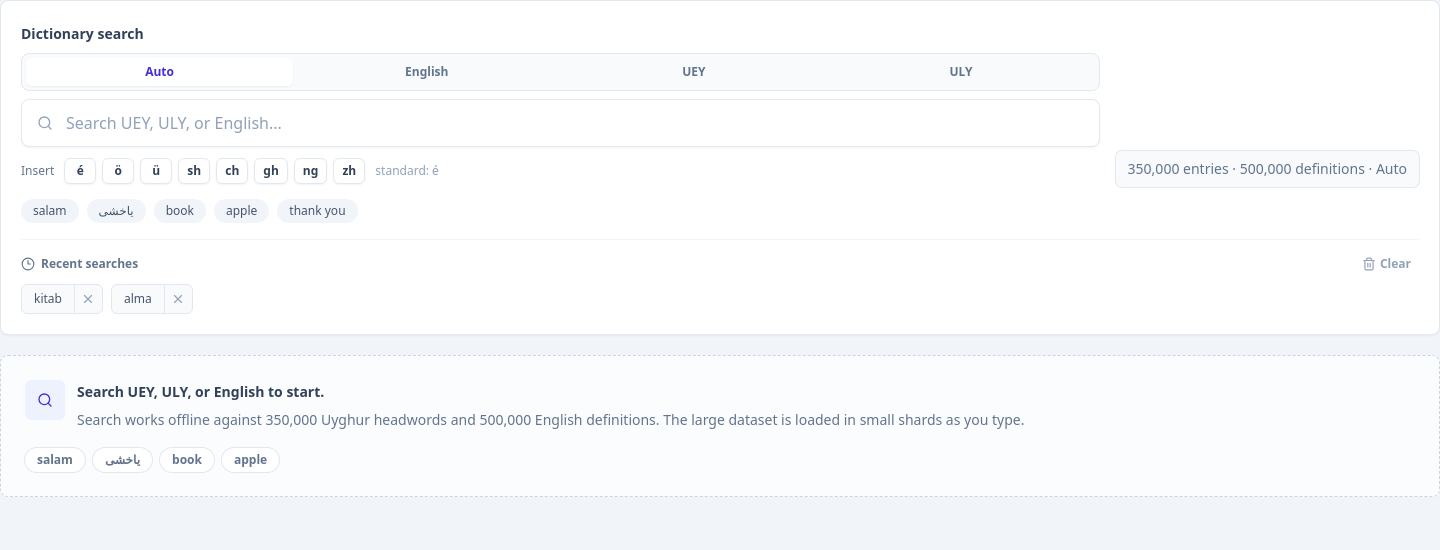
it: DictionaryPanel › removes one recent search without changing the current query
The image size is (1440, 550).
Click the button named "Remove kitab from recent searches" at (88, 299), box [74,285,102,313]
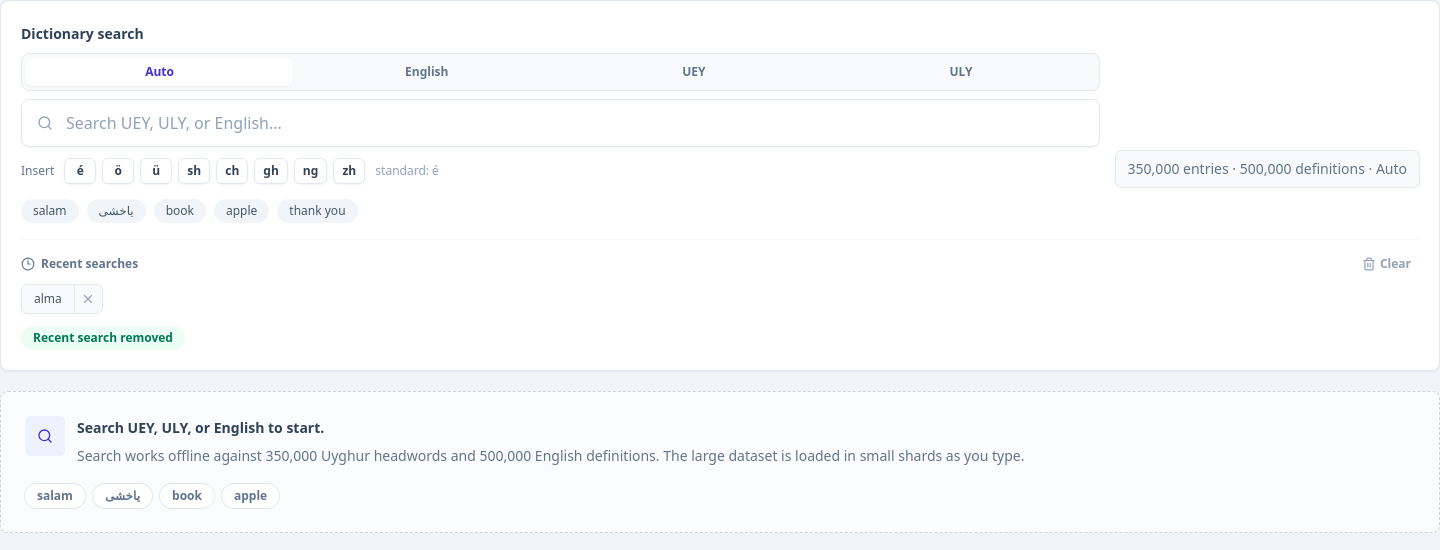
Expected: the button "alma" is shown, [22,285,74,313]
Result: the button "kitab" is gone
